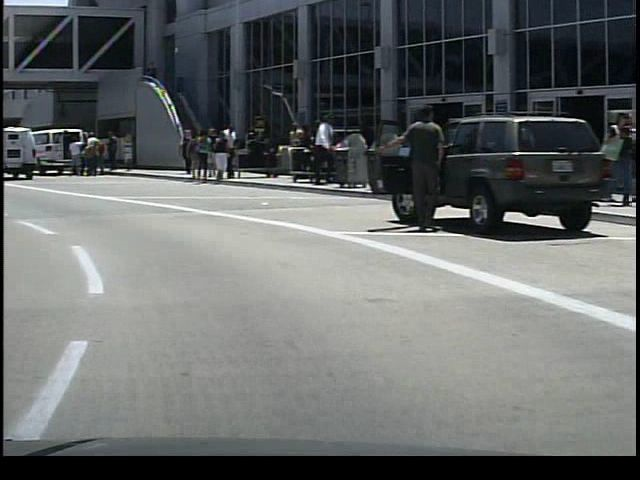person: (383, 89, 446, 237), (593, 106, 630, 208), (300, 110, 333, 195), (216, 122, 240, 181), (206, 129, 229, 180), (172, 124, 195, 175), (100, 129, 121, 176), (81, 130, 100, 180), (65, 135, 83, 178)
